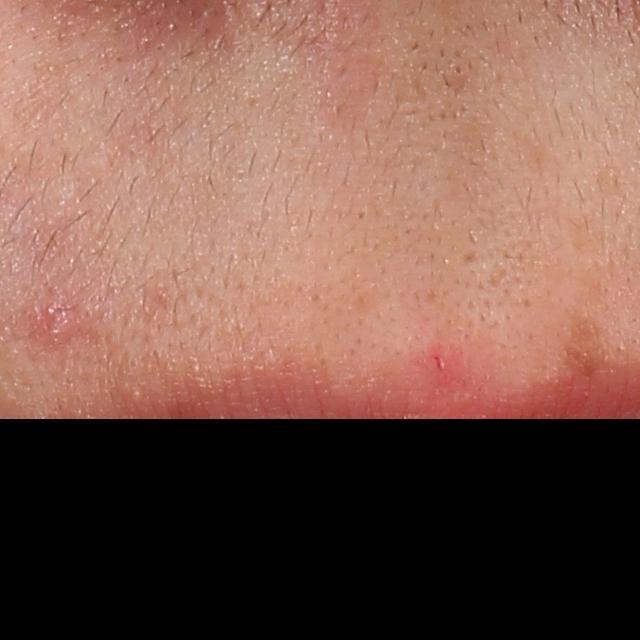papule: (34, 300, 78, 347)
